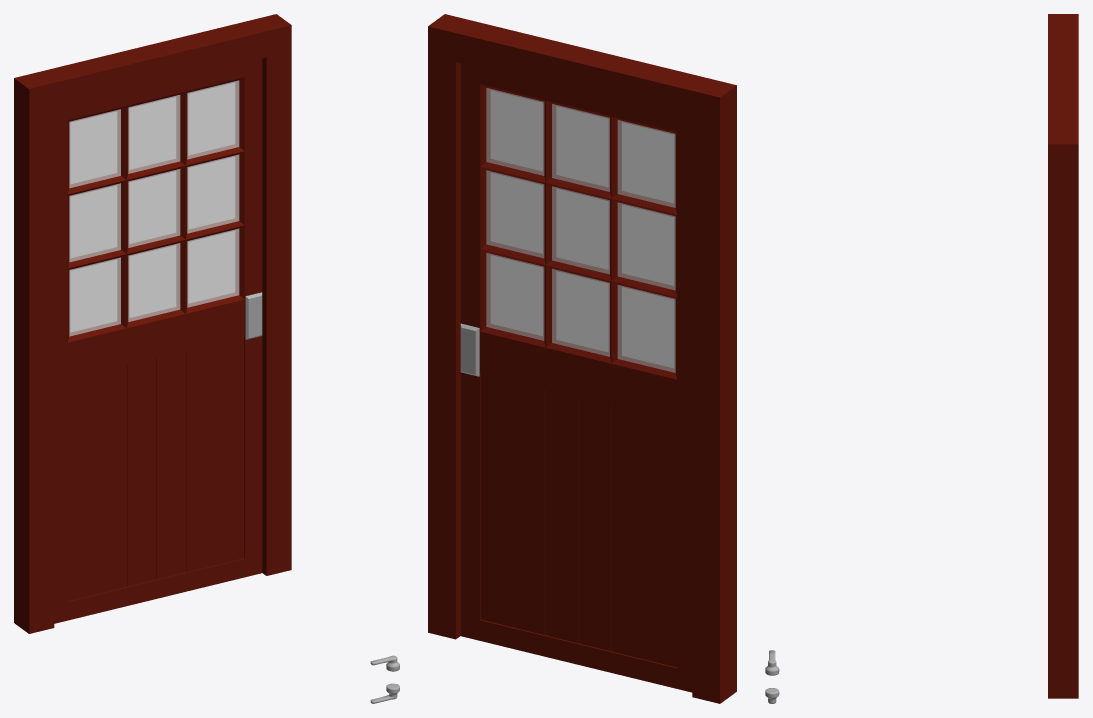
The model's file is Pintu.fbx.
3 views of the same model, side by side, from view 1: azimuth 30°, elevation 25°; view 2: azimuth 150°, elevation 25°; view 3: azimuth 270°, elevation 25° (orthographic). The views are drawn at different scales.
Visible parts, largest first — view 1: Pintu.002, PintuFrame.002; view 2: Pintu.002, PintuFrame.002; view 3: PintuFrame.002.
Part boxes in pixels (x1,y1,x2,y2): Pintu.002: (54, 58, 262, 623); PintuFrame.002: (14, 14, 291, 633); Pintu.002: (460, 63, 692, 692); PintuFrame.002: (428, 14, 736, 703); PintuFrame.002: (1048, 14, 1078, 698).
Size of the model in its own units: 1.11 by 2.29 by 1.13.
